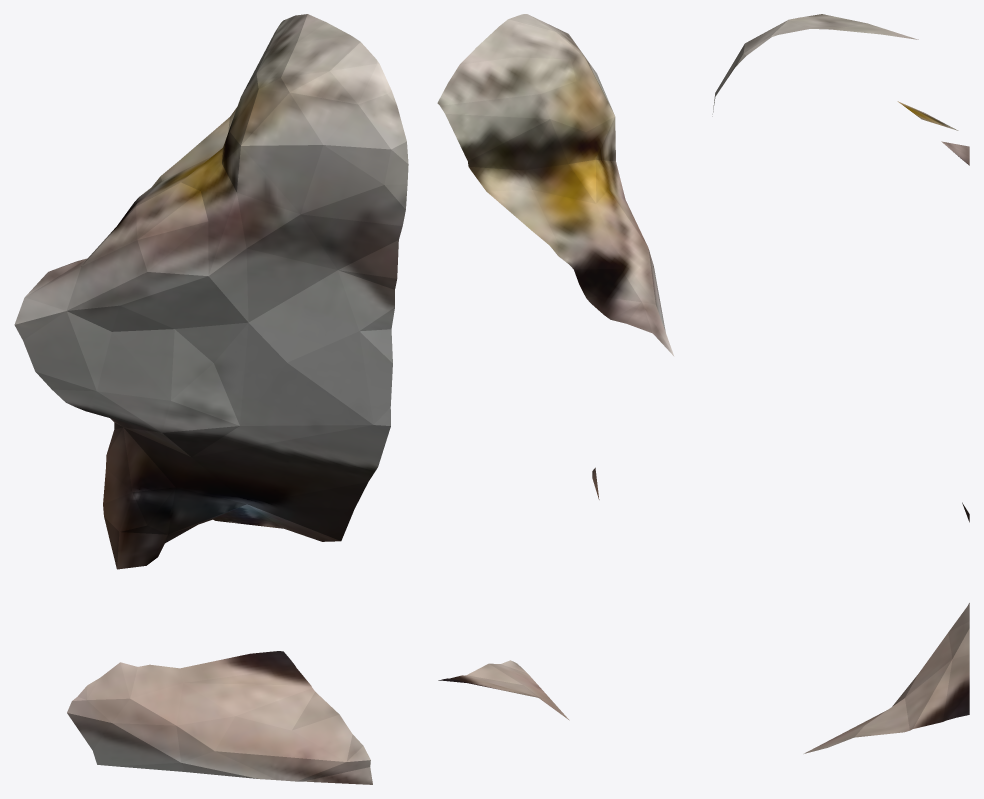
3 renders of one model, left to right at view 1: azimuth 30°, elevation 25°; view 2: azimuth 150°, elevation 25°; view 3: azimuth 270°, elevation 25°, orthographic. The views are drawn at different scales.
Bounding box in the file's own units: 0.2502 × 0.6523 × 0.2014.
1 material, 1 textured.
